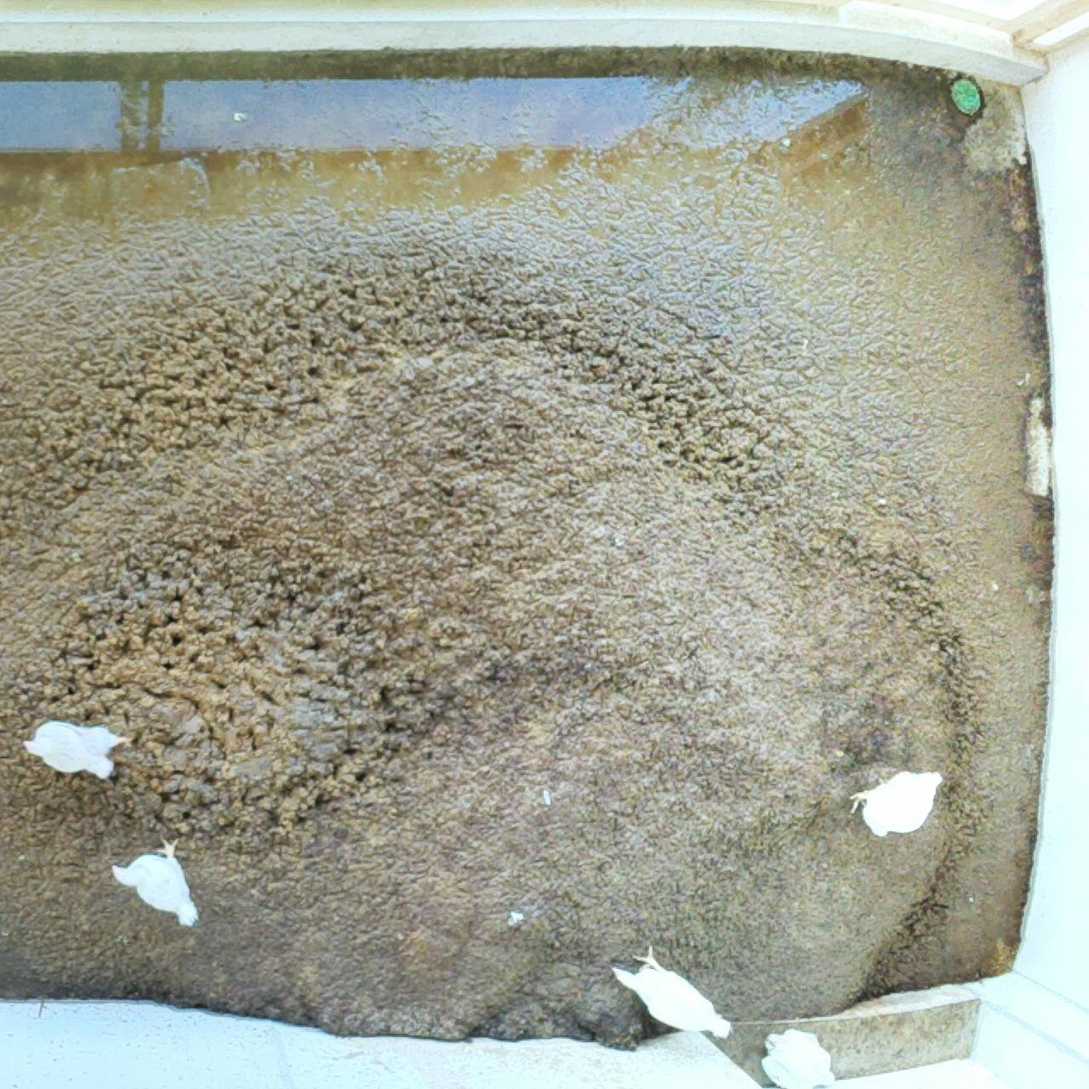chicken: (608, 940, 738, 1040), (110, 843, 199, 926), (852, 766, 945, 843), (23, 719, 124, 783), (764, 1025, 836, 1089)
